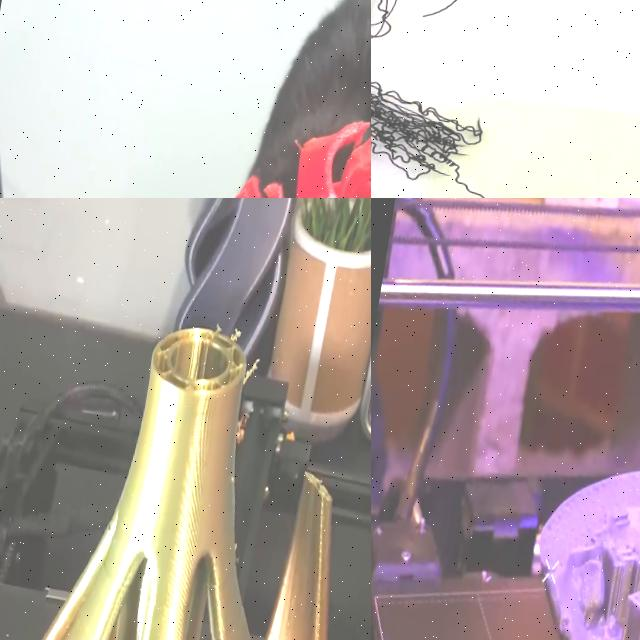spaghetti: (371, 0, 582, 198), (200, 306, 270, 396)
